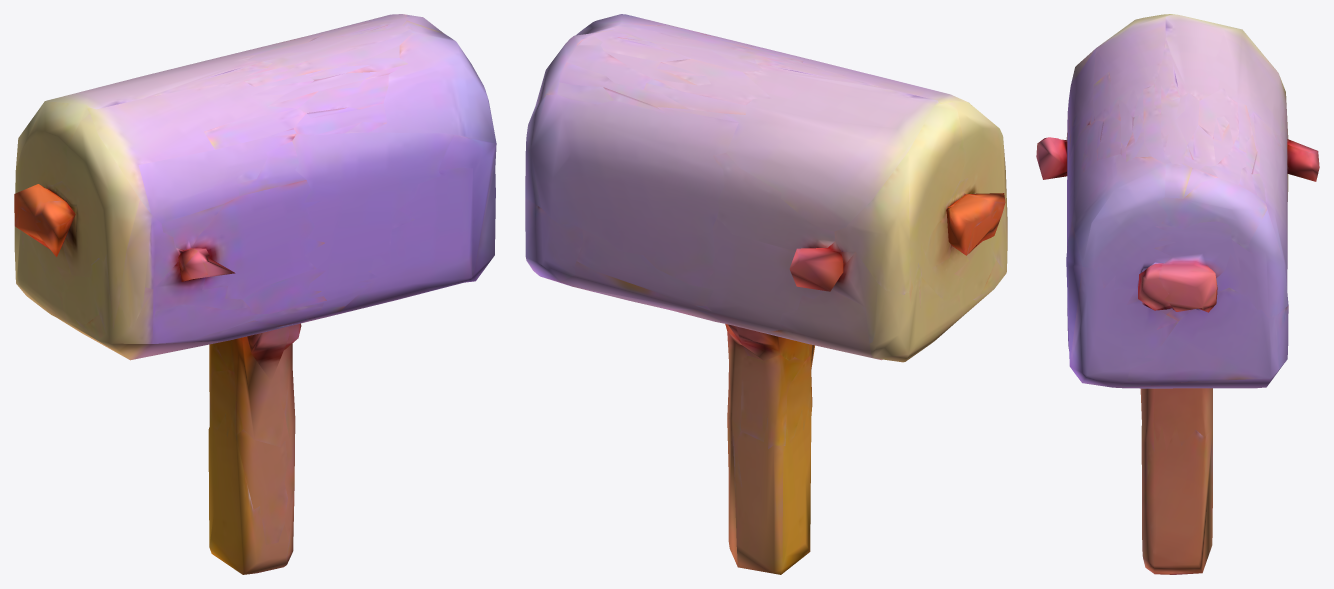
The model's file is mailbox.glb.
The picture shows the model from 3 angles, left to right: view 1: azimuth 30°, elevation 25°; view 2: azimuth 150°, elevation 25°; view 3: azimuth 270°, elevation 25°; orthographic projection. The views are drawn at different scales.
Parts seen in each view (by area): view 1: tripo_node_dc1deb69-0b3d-4718-bc8e-6b0c5e33e42b; view 2: tripo_node_dc1deb69-0b3d-4718-bc8e-6b0c5e33e42b; view 3: tripo_node_dc1deb69-0b3d-4718-bc8e-6b0c5e33e42b.
Boxes of the visible parts, x1,y1,x2,y2 form: tripo_node_dc1deb69-0b3d-4718-bc8e-6b0c5e33e42b: (14, 14, 496, 574); tripo_node_dc1deb69-0b3d-4718-bc8e-6b0c5e33e42b: (525, 14, 1007, 574); tripo_node_dc1deb69-0b3d-4718-bc8e-6b0c5e33e42b: (1036, 14, 1319, 574).
Size of the model in its own units: 0.896 by 0.9792 by 0.5289.
Materials: 1 (1 with a texture image).
